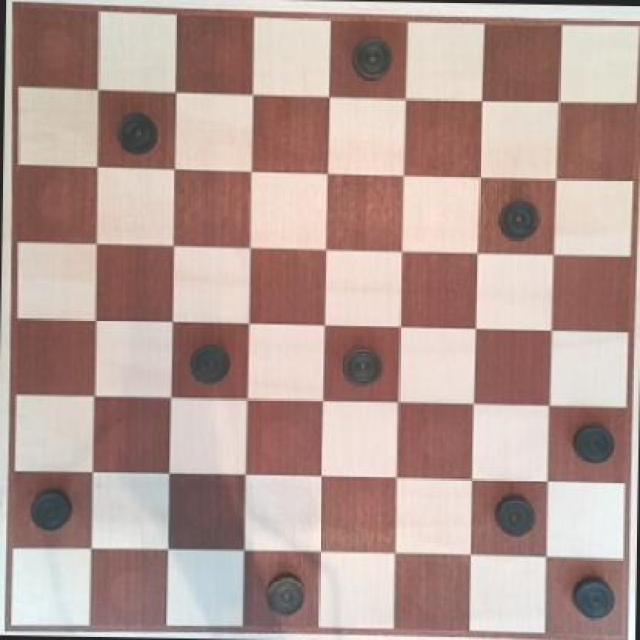BOARD: (15, 0, 640, 640)
black: (561, 416, 618, 476), (492, 189, 548, 244), (262, 564, 312, 624), (566, 570, 621, 624), (345, 30, 399, 85), (333, 338, 387, 392), (488, 491, 538, 542), (24, 486, 74, 532), (188, 336, 235, 384), (114, 109, 158, 154)
